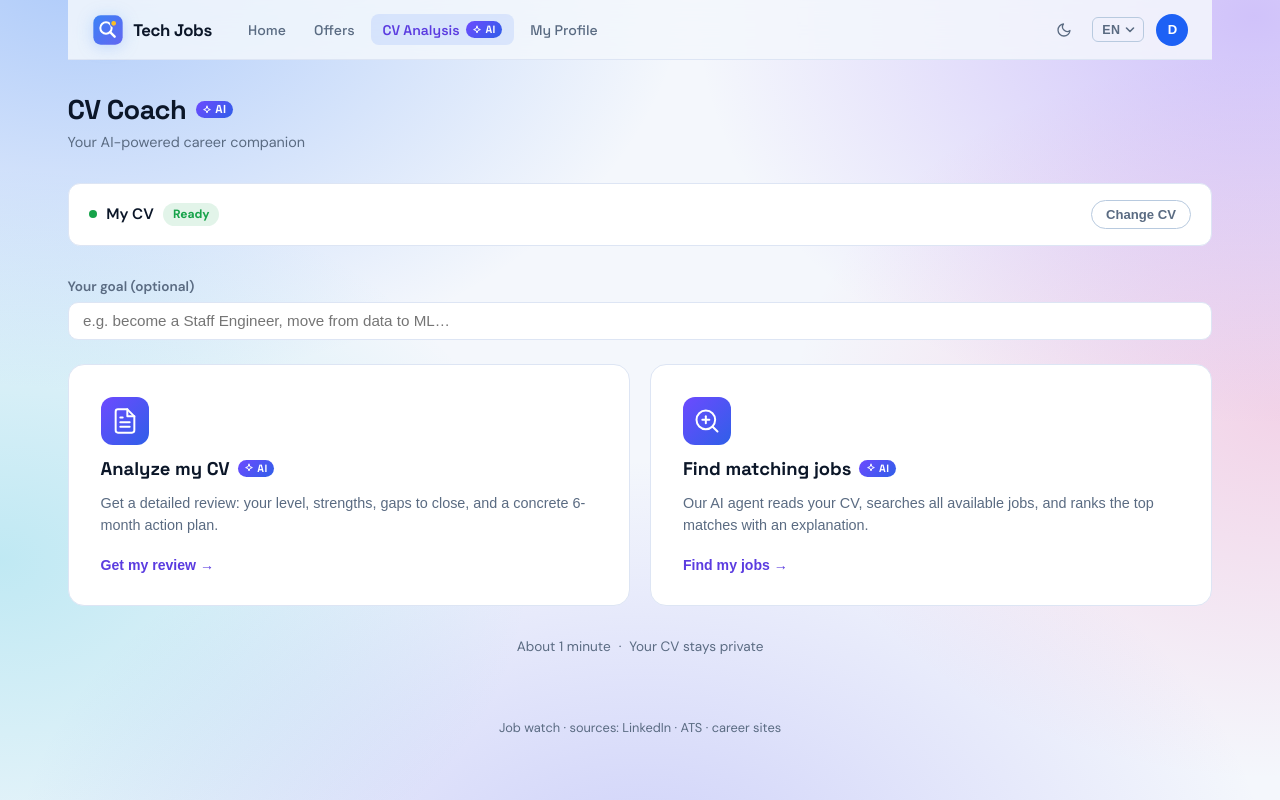
Test: CoachPage (integration) › signed in with a CV › runs the AI review with the CV, goal and language, and shows the result
Check: the text "My CV" is shown, box [106,204,154,224]
Step 1. Type "become staff" into the field labelled "Your goal (optional)" → {"x": 640, "y": 321}, box [68,302,1212,340]
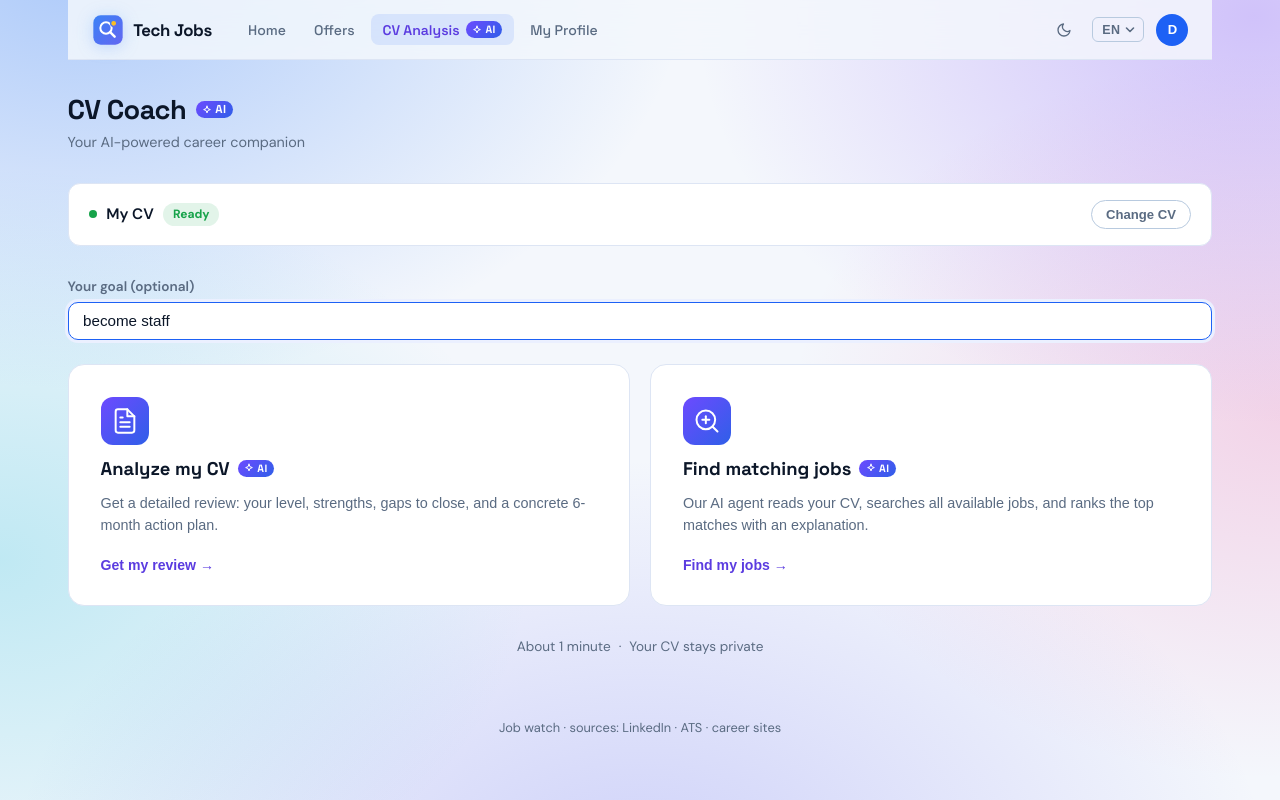
Step 2. Click the button "Analyze my CV" → {"x": 125, "y": 421}, box [68,364,630,606]
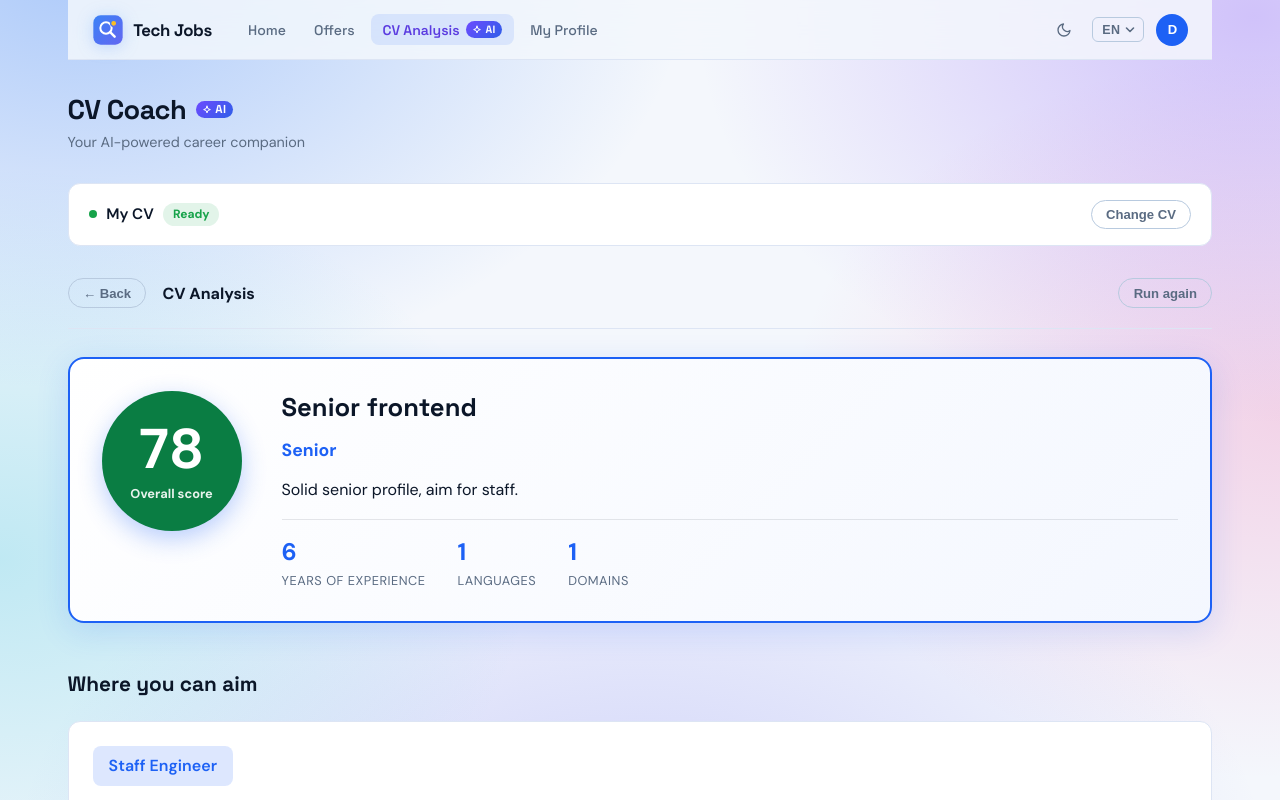
Check: the text "Solid senior profile, aim for staff." is shown, box [282,479,518,500]
